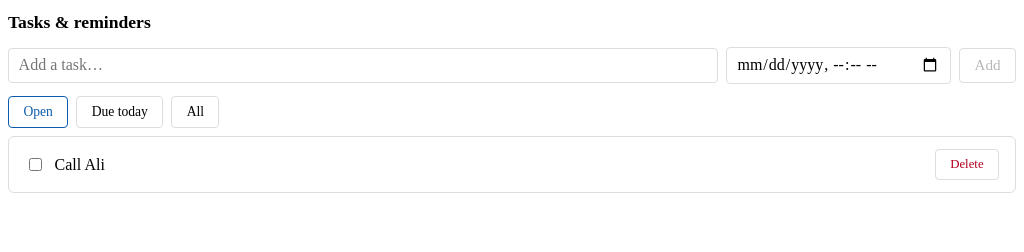
Scenario: TasksPanel › rolls back and reports when completing fails
Step 1. Click the checkbox named "Complete Call Ali" → click(36, 165), box [29, 158, 42, 171]
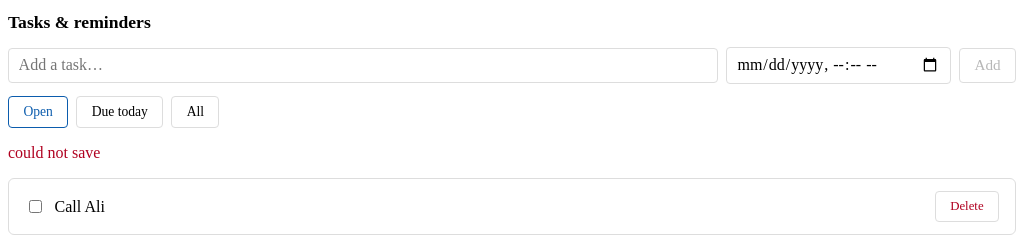
Expected: the checkbox named "Complete Call Ali" is not checked, [29, 200, 42, 213]
Expected: the message reads "could not save", [8, 144, 100, 161]
